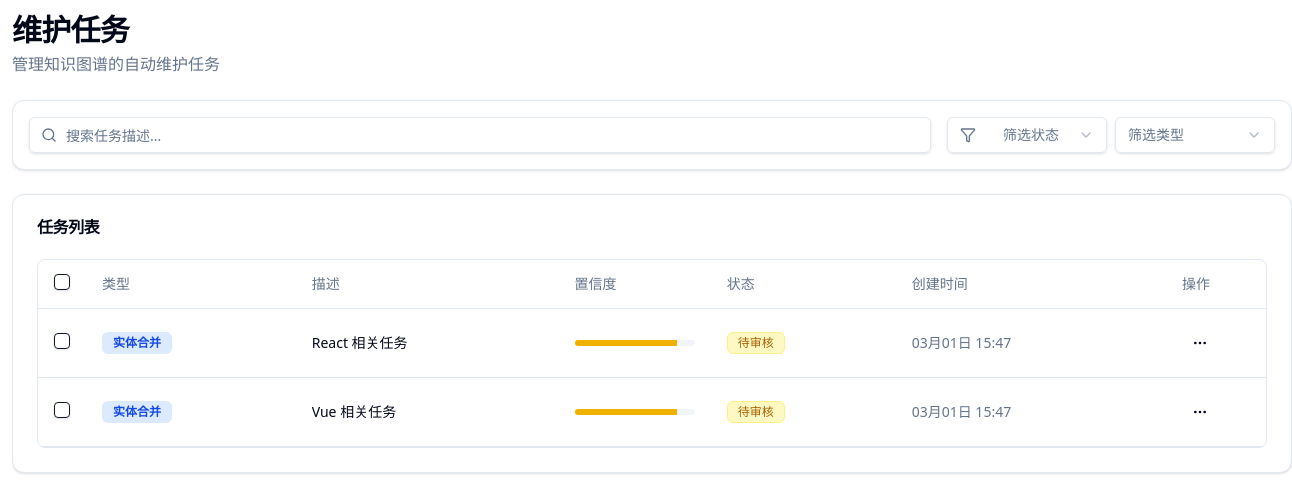
TasksPage Integration Tests › 任务列表页面测试 › 应该支持搜索过滤
Expected: the button "React 相关任务" is shown, [312,332,408,352]
Type "React" into the field with placeholder "搜索任务描述...".
click(480, 135); type("React")  # box [29,117,931,153]
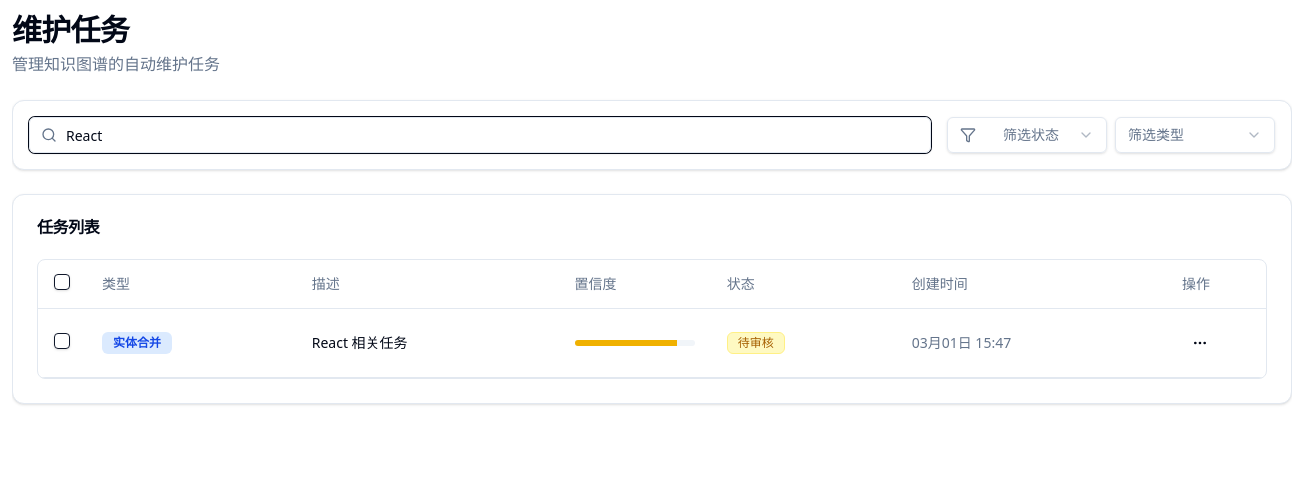
Expected: the button "React 相关任务" is shown, [312,332,408,352]
Expected: the button "Vue 相关任务" is gone
